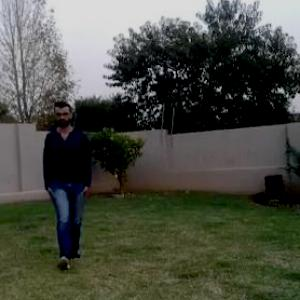follow: (42, 100, 95, 264)
